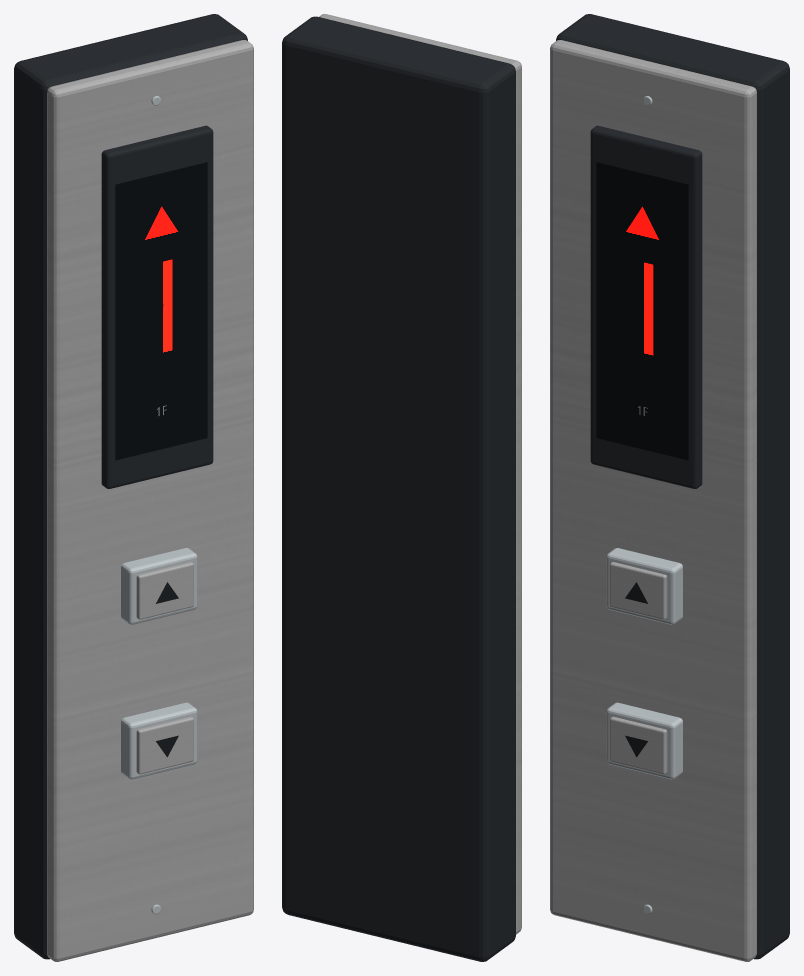
Rendered from Elevator_Call_Panel.fbx.
The picture shows the model from 3 angles, left to right: view 1: azimuth 30°, elevation 25°; view 2: azimuth 150°, elevation 25°; view 3: azimuth 330°, elevation 25°; orthographic projection.
Parts seen in each view (by area): view 1: Elevator_Call_Panel; view 2: Elevator_Call_Panel; view 3: Elevator_Call_Panel.
Part boxes in pixels (x1,y1,x2,y2): Elevator_Call_Panel: (14,14,253,961); Elevator_Call_Panel: (282,14,521,961); Elevator_Call_Panel: (550,14,789,961).
Bounding box in the file's own units: 0.123 × 0.5 × 0.0545.
5 materials, 2 textured.
